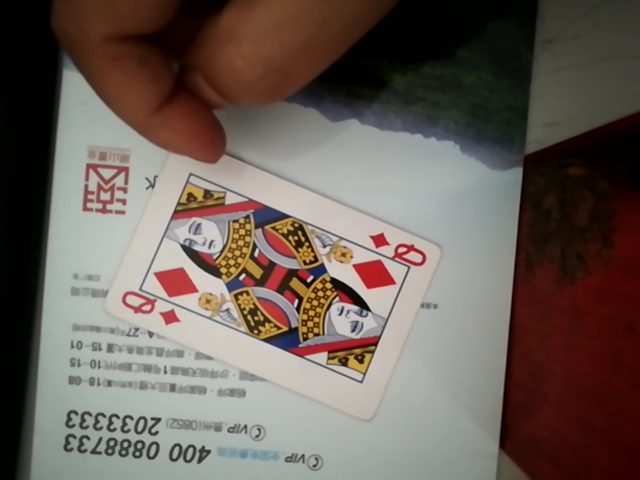fk q: (96, 138, 449, 416)
